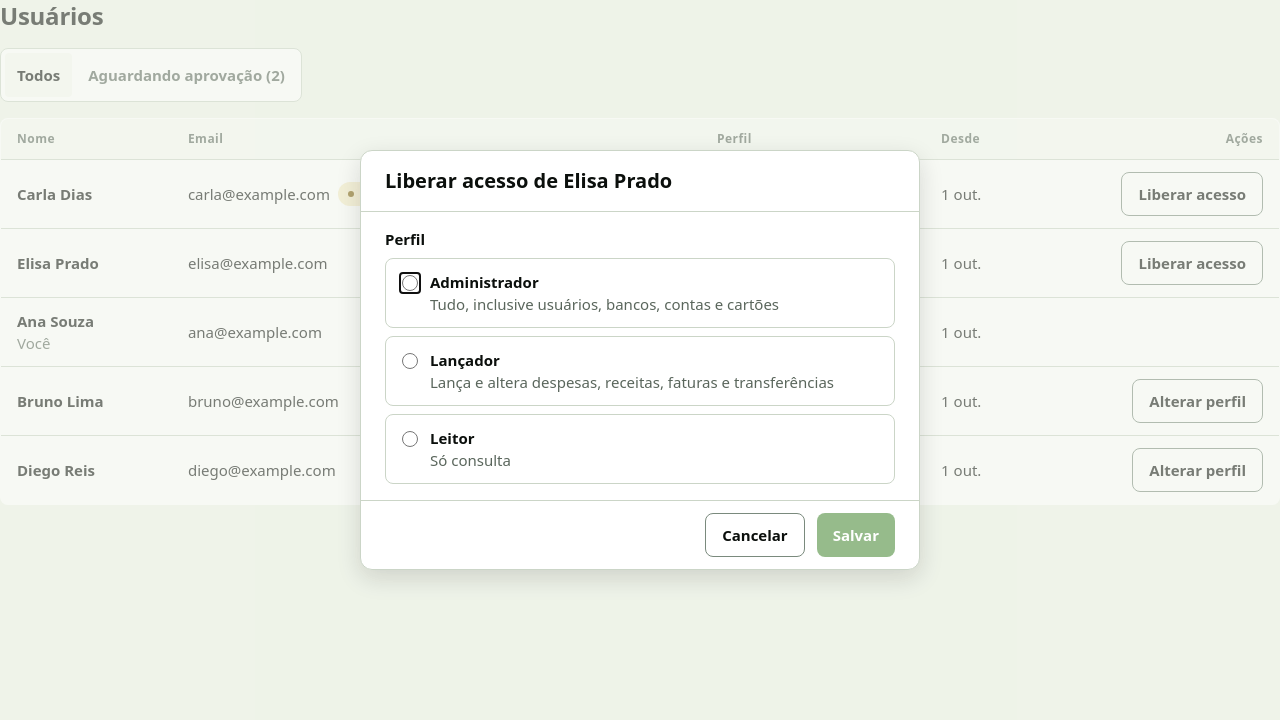
Scenario: UsersPage › reloads the list after USER_NOT_FOUND
The image size is (1280, 720).
Step 1. Click the radio button labelled "Leitor Só consulta" → (410, 439), box [402,431,418,447]
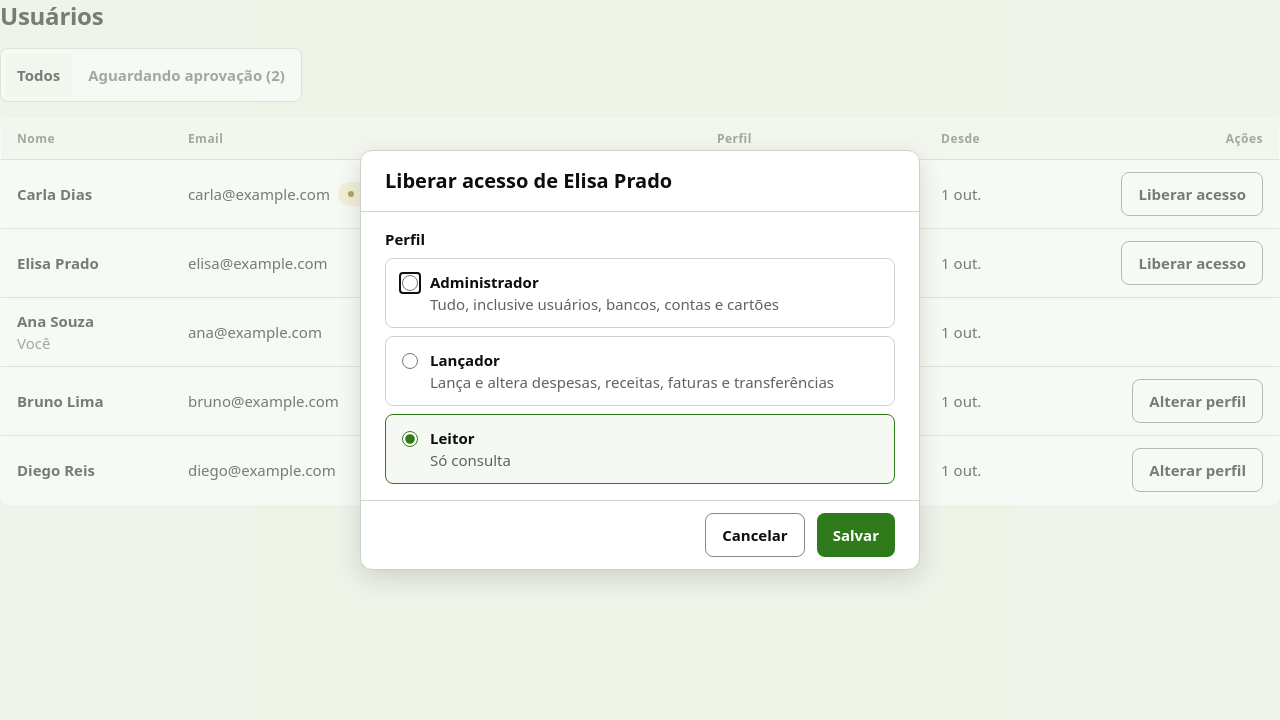
Step 2. Click the button "Salvar" → (856, 535), box [817,513,895,557]
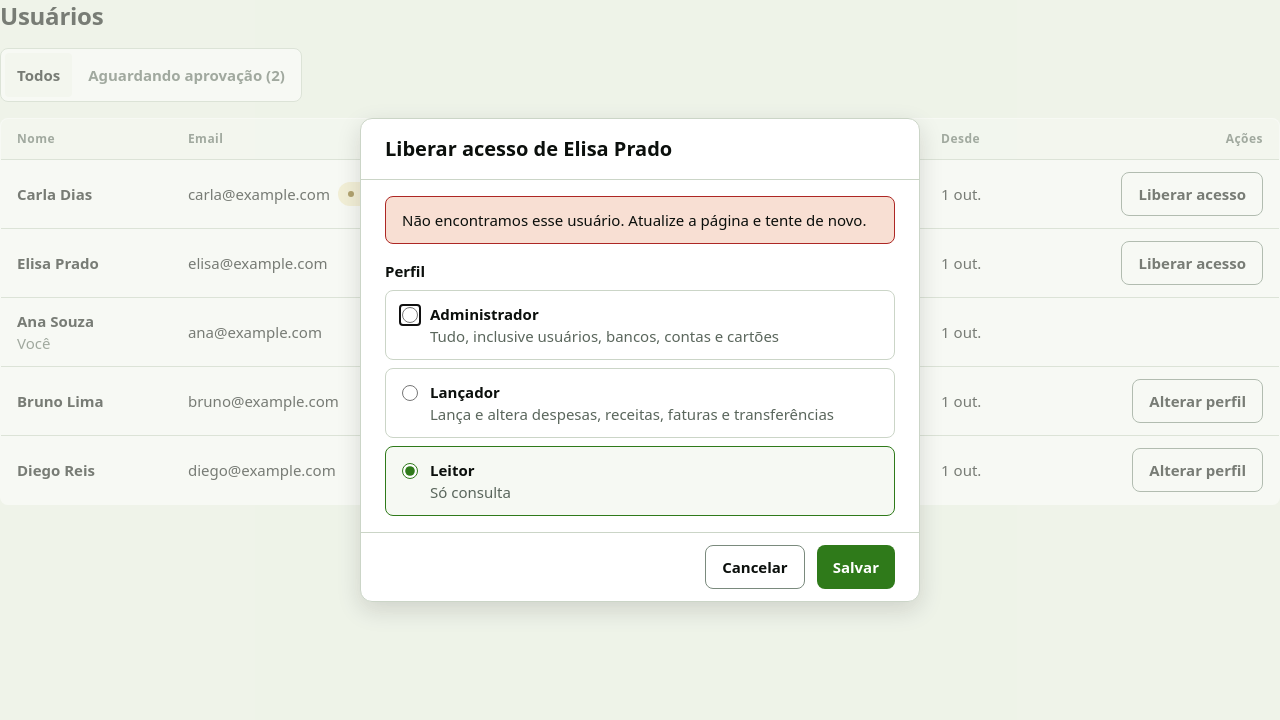
expect the message reads "Não encontramos esse usuário. Atualize a página e tente de novo.": met, box [402,210,866,230]
